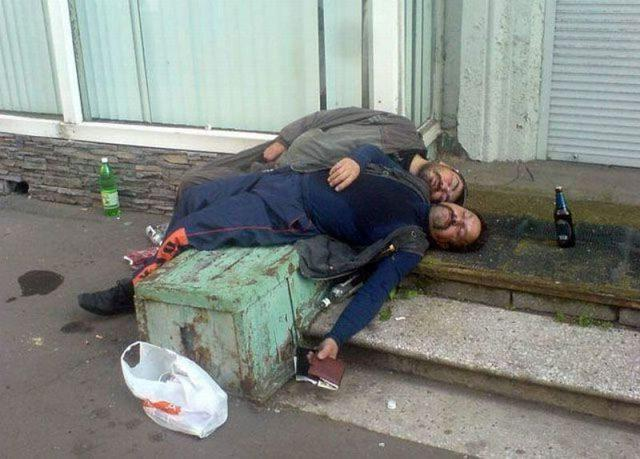Drunk: (428, 204, 476, 245), (421, 164, 464, 200)
